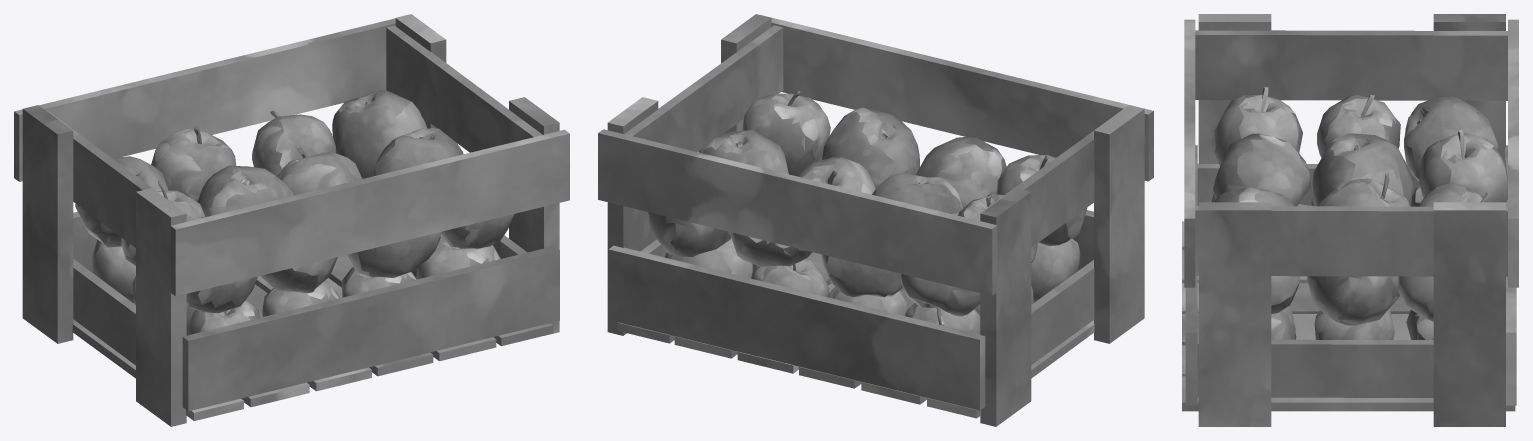
File: SM_Crate_Apple_01a1.fbx
The picture shows the model from 3 angles, left to right: view 1: azimuth 30°, elevation 25°; view 2: azimuth 150°, elevation 25°; view 3: azimuth 270°, elevation 25°; orthographic projection. The views are drawn at different scales.
Parts seen in each view (by area): view 1: SM_Crate_Apple_01a1_LOD0; view 2: SM_Crate_Apple_01a1_LOD0; view 3: SM_Crate_Apple_01a1_LOD0.
Part boxes in pixels (bbox=[...]): SM_Crate_Apple_01a1_LOD0: bbox=[14, 14, 569, 426]; SM_Crate_Apple_01a1_LOD0: bbox=[598, 14, 1153, 426]; SM_Crate_Apple_01a1_LOD0: bbox=[1182, 14, 1518, 426].
Size of the model in its own units: 51.41 by 36.8 by 26.12.
